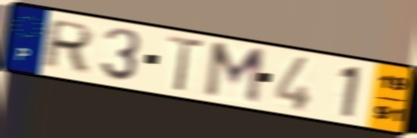1: (336, 64, 363, 120)
3: (99, 26, 143, 83)
4: (272, 54, 313, 114)
M: (201, 40, 268, 108)
R: (39, 18, 97, 74)
T: (165, 33, 208, 94)
